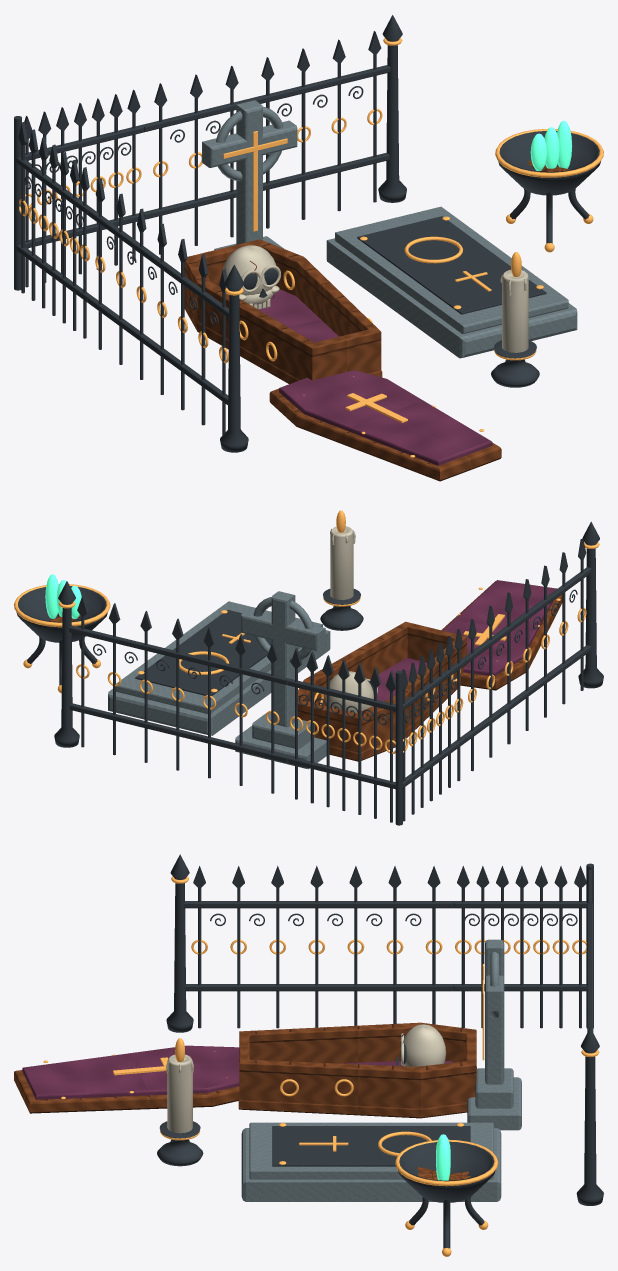
Rendered from hollowwick-halloween-hollowwick-fenced-burial-plot-3a196ea4__21659.glb.
3 renders of one model, top to bottom at view 1: azimuth 30°, elevation 25°; view 2: azimuth 150°, elevation 25°; view 3: azimuth 270°, elevation 25°, orthographic. The views are drawn at different scales.
Parts seen in each view (by area): view 1: 007-velvet-lined-open-coffin/0, 001-scroll-fence-corner/0, 006-engraved-tomb-slab/0, 008-brass-trimmed-coffin-lid/1, 000-scroll-iron-fence/0, 002-scroll-iron-fence/0, 006-engraved-tomb-slab/1, 005-celtic-cross-marker/0, 010-ritual-fire-brazier/0, 008-brass-trimmed-coffin-lid/0, 004-scroll-fence-terminal/0, 003-scroll-fence-terminal/0 (+11 smaller); view 2: 001-scroll-fence-corner/0, 007-velvet-lined-open-coffin/0, 000-scroll-iron-fence/0, 005-celtic-cross-marker/0, 006-engraved-tomb-slab/0, 002-scroll-iron-fence/0, 008-brass-trimmed-coffin-lid/1, 006-engraved-tomb-slab/1, 010-ritual-fire-brazier/0, 003-scroll-fence-terminal/0, 004-scroll-fence-terminal/0, 009-tall-pillar-candle/1 (+10 smaller); view 3: 007-velvet-lined-open-coffin/0, 006-engraved-tomb-slab/0, 002-scroll-iron-fence/0, 008-brass-trimmed-coffin-lid/1, 001-scroll-fence-corner/0, 006-engraved-tomb-slab/1, 005-celtic-cross-marker/0, 010-ritual-fire-brazier/0, 008-brass-trimmed-coffin-lid/0, 003-scroll-fence-terminal/0, 004-scroll-fence-terminal/0, 009-tall-pillar-candle/1 (+8 smaller).
Part boxes in pixels (x1,y1,x2,y2): 007-velvet-lined-open-coffin/0: (184, 239, 382, 383); 001-scroll-fence-corner/0: (14, 89, 143, 338); 006-engraved-tomb-slab/0: (326, 206, 577, 358); 008-brass-trimmed-coffin-lid/1: (279, 370, 492, 465); 000-scroll-iron-fence/0: (142, 31, 390, 254); 002-scroll-iron-fence/0: (87, 178, 228, 435); 006-engraved-tomb-slab/1: (357, 216, 546, 314); 005-celtic-cross-marker/0: (202, 100, 297, 250); 010-ritual-fire-brazier/0: (498, 131, 600, 243); 008-brass-trimmed-coffin-lid/0: (269, 388, 501, 481); 004-scroll-fence-terminal/0: (220, 264, 248, 452); 003-scroll-fence-terminal/0: (378, 15, 406, 202); 001-scroll-fence-corner/0: (287, 629, 465, 825); 007-velvet-lined-open-coffin/0: (298, 621, 466, 761); 000-scroll-iron-fence/0: (68, 595, 288, 793); 005-celtic-cross-marker/0: (235, 591, 326, 769); 006-engraved-tomb-slab/0: (108, 601, 330, 735); 002-scroll-iron-fence/0: (461, 539, 591, 771); 008-brass-trimmed-coffin-lid/1: (427, 580, 556, 675); 006-engraved-tomb-slab/1: (135, 610, 271, 695); 010-ritual-fire-brazier/0: (16, 586, 107, 685); 003-scroll-fence-terminal/0: (54, 581, 79, 747); 004-scroll-fence-terminal/0: (578, 521, 603, 688); 009-tall-pillar-candle/1: (330, 526, 355, 599); 007-velvet-lined-open-coffin/0: (238, 1022, 476, 1118); 006-engraved-tomb-slab/0: (241, 1122, 501, 1201); 002-scroll-iron-fence/0: (184, 865, 453, 1028); 008-brass-trimmed-coffin-lid/1: (22, 1045, 239, 1099); 001-scroll-fence-corner/0: (453, 863, 593, 1028); 006-engraved-tomb-slab/1: (272, 1126, 470, 1166); 005-celtic-cross-marker/0: (467, 939, 521, 1130); 010-ritual-fire-brazier/0: (398, 1141, 495, 1248); 008-brass-trimmed-coffin-lid/0: (14, 1070, 239, 1113); 003-scroll-fence-terminal/0: (576, 1027, 603, 1205); 004-scroll-fence-terminal/0: (166, 854, 193, 1032); 009-tall-pillar-candle/1: (166, 1054, 193, 1133).
Bounding box in the file's own units: 4.13 × 1.4 × 4.31.
Materials: 7 (4 with a texture image).
